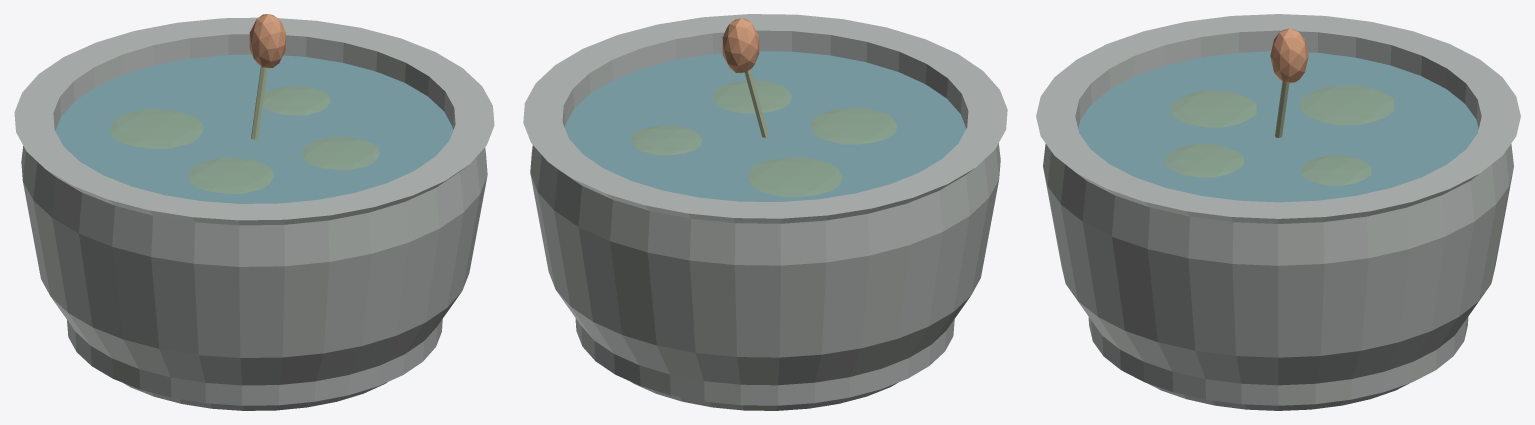
Rendered from env_lotus_pot.glb.
3 renders of one model, left to right at view 1: azimuth 30°, elevation 25°; view 2: azimuth 150°, elevation 25°; view 3: azimuth 270°, elevation 25°, orthographic.
Parts seen in each view (by area): view 1: env_lotus_pot/stone_lotus_basin_00000, env_lotus_pot/basin_water_surface_00001, env_lotus_pot/floating_lotus_pad_00003, env_lotus_pot/floating_lotus_pad_00004, env_lotus_pot/floating_lotus_pad_00005, env_lotus_pot/floating_lotus_pad_00002, env_lotus_pot/lotus_flower_bud_00007, env_lotus_pot/lotus_flower_stem_00006; view 2: env_lotus_pot/stone_lotus_basin_00000, env_lotus_pot/basin_water_surface_00001, env_lotus_pot/floating_lotus_pad_00003, env_lotus_pot/floating_lotus_pad_00004, env_lotus_pot/floating_lotus_pad_00005, env_lotus_pot/floating_lotus_pad_00002, env_lotus_pot/lotus_flower_bud_00007, env_lotus_pot/lotus_flower_stem_00006; view 3: env_lotus_pot/stone_lotus_basin_00000, env_lotus_pot/basin_water_surface_00001, env_lotus_pot/floating_lotus_pad_00003, env_lotus_pot/floating_lotus_pad_00004, env_lotus_pot/floating_lotus_pad_00005, env_lotus_pot/floating_lotus_pad_00002, env_lotus_pot/lotus_flower_bud_00007, env_lotus_pot/lotus_flower_stem_00006.
Boxes of the visible parts, <box> form: env_lotus_pot/stone_lotus_basin_00000: <box>14,17,494,410</box>; env_lotus_pot/basin_water_surface_00001: <box>55,54,453,203</box>; env_lotus_pot/floating_lotus_pad_00003: <box>109,109,203,148</box>; env_lotus_pot/floating_lotus_pad_00004: <box>187,157,274,193</box>; env_lotus_pot/floating_lotus_pad_00005: <box>301,137,379,169</box>; env_lotus_pot/floating_lotus_pad_00002: <box>262,86,330,115</box>; env_lotus_pot/lotus_flower_bud_00007: <box>249,14,285,68</box>; env_lotus_pot/lotus_flower_stem_00006: <box>251,66,267,139</box>; env_lotus_pot/stone_lotus_basin_00000: <box>523,14,1007,410</box>; env_lotus_pot/basin_water_surface_00001: <box>565,51,966,201</box>; env_lotus_pot/floating_lotus_pad_00003: <box>747,157,842,197</box>; env_lotus_pot/floating_lotus_pad_00004: <box>810,108,897,144</box>; env_lotus_pot/floating_lotus_pad_00005: <box>713,80,791,113</box>; env_lotus_pot/floating_lotus_pad_00002: <box>631,125,701,155</box>; env_lotus_pot/lotus_flower_bud_00007: <box>722,18,759,73</box>; env_lotus_pot/lotus_flower_stem_00006: <box>745,69,768,137</box>; env_lotus_pot/stone_lotus_basin_00000: <box>1036,14,1520,410</box>; env_lotus_pot/basin_water_surface_00001: <box>1078,51,1478,202</box>; env_lotus_pot/floating_lotus_pad_00003: <box>1301,85,1394,125</box>; env_lotus_pot/floating_lotus_pad_00004: <box>1171,90,1256,127</box>; env_lotus_pot/floating_lotus_pad_00005: <box>1165,144,1243,177</box>; env_lotus_pot/floating_lotus_pad_00002: <box>1301,155,1371,185</box>; env_lotus_pot/lotus_flower_bud_00007: <box>1270,28,1308,83</box>; env_lotus_pot/lotus_flower_stem_00006: <box>1275,81,1289,137</box>.
Bounding box in the file's own units: 0.882 × 0.675 × 0.882.
